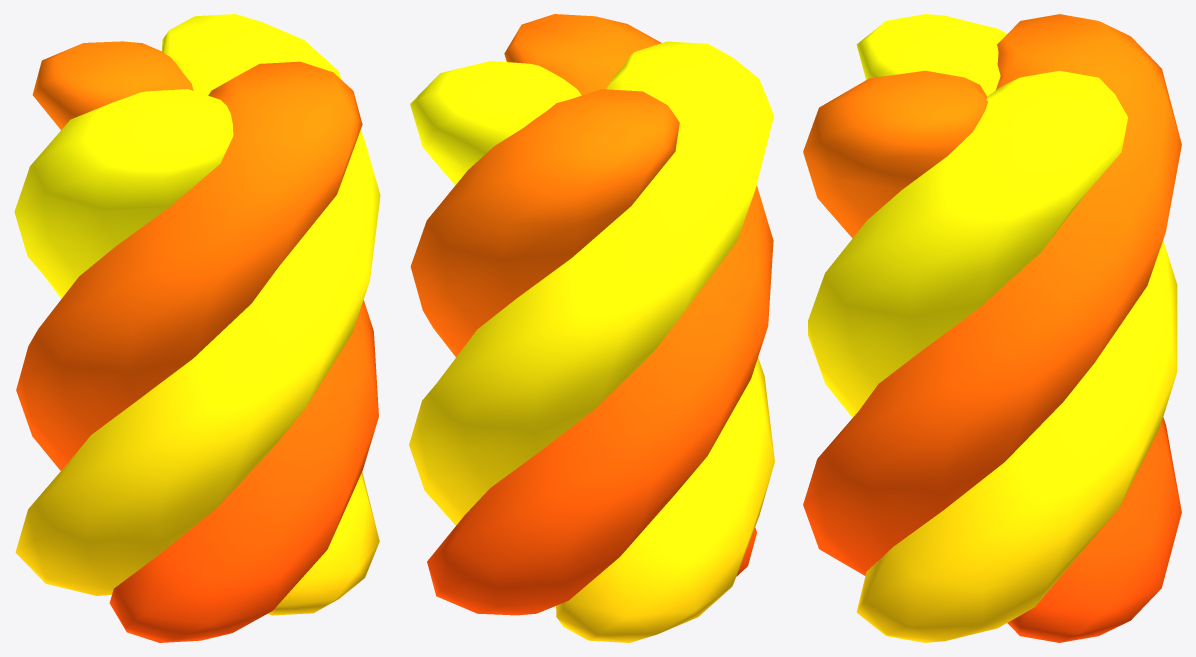
Rendered from Marshmallow_03.glb.
3 renders of one model, left to right at view 1: azimuth 30°, elevation 25°; view 2: azimuth 150°, elevation 25°; view 3: azimuth 270°, elevation 25°, orthographic. The views are drawn at different scales.
Parts seen in each view (by area): view 1: Marshmallow_03; view 2: Marshmallow_03; view 3: Marshmallow_03.
Boxes of the visible parts, x1=… form: Marshmallow_03: x1=14, y1=14, x2=380, y2=642; Marshmallow_03: x1=409, y1=14, x2=774, y2=642; Marshmallow_03: x1=803, y1=14, x2=1181, y2=642.
Size of the model in its own units: 0.6508 by 0.9948 by 0.6506.
1 material, 1 textured.
